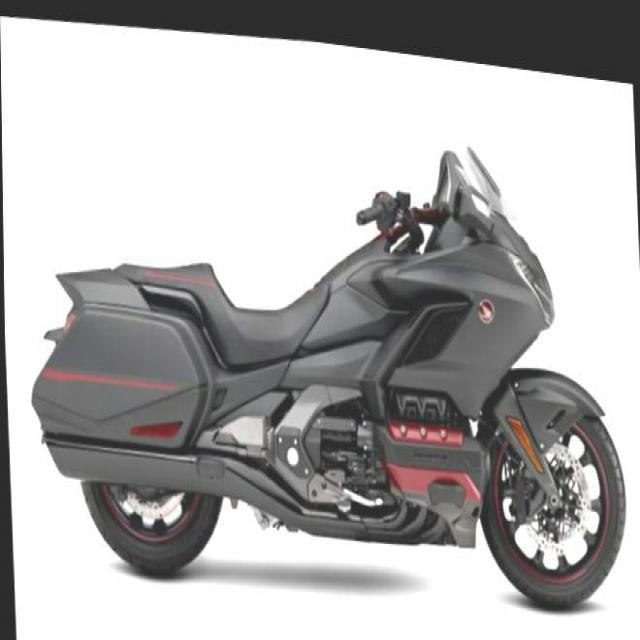Gold Wing: (19, 49, 632, 632)
